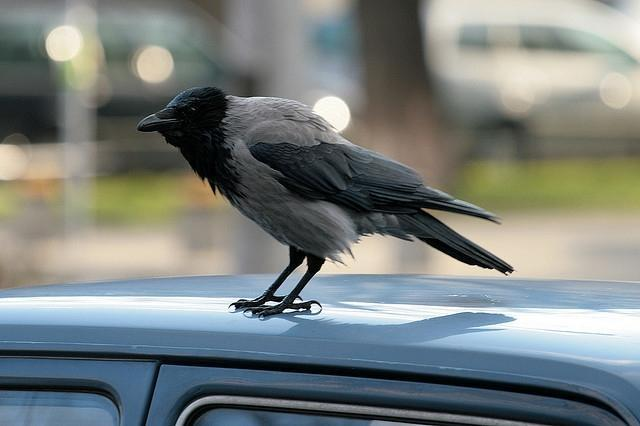car: (0, 273, 640, 426), (420, 1, 638, 162)
